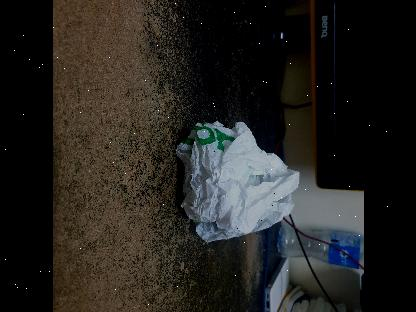Others: (170, 113, 298, 245)
Plastic Bottle: (278, 224, 364, 270)
